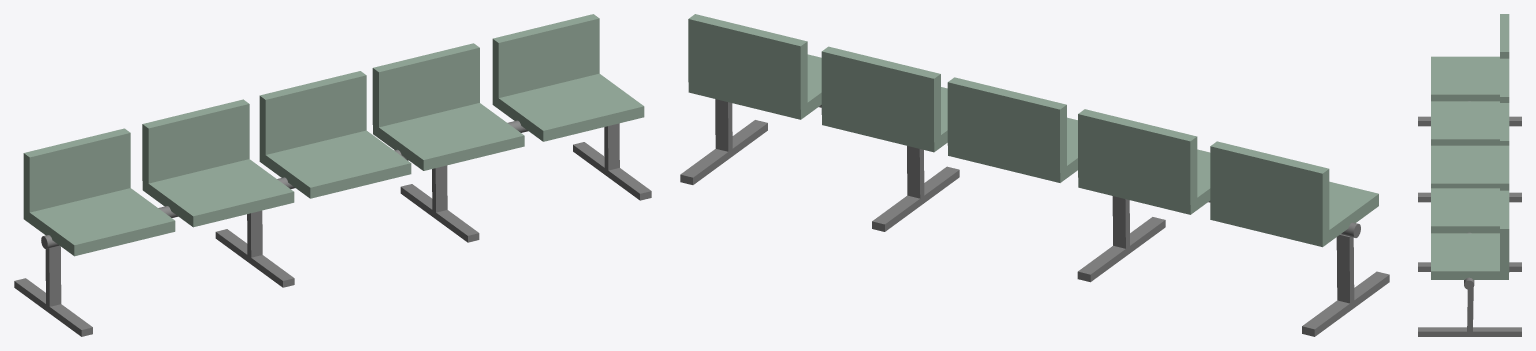
Rendered from hospital_bench.fbx.
3 views of the same model, side by side, from view 1: azimuth 30°, elevation 25°; view 2: azimuth 150°, elevation 25°; view 3: azimuth 270°, elevation 25° (orthographic). The views are drawn at different scales.
Parts seen in each view (by area): view 1: Cube_7, Cube_9, Cube_5, Cube_3, Cube_11, Cube_4, Cube_2, Cube_10, Cube_6, Cube_8, Cube_16, Cube_12 (+7 smaller); view 2: Cube_7, Cube_11, Cube_9, Cube_3, Cube_5, Cube_2, Cube_10, Cube_4, Cube_6, Cube_8, Cube_12, Cube_14 (+6 smaller); view 3: Cube_10, Cube_2, Cube_8, Cube_4, Cube_6, Cube_14, Cube_11, Cube_9, Cube_3, Cube_5, Cube_7, Cube_15 (+4 smaller).
Part boxes in pixels (x1,y1,x2,y2): Cube_7: (259,71,366,156); Cube_9: (372,43,479,128); Cube_5: (142,99,249,185); Cube_3: (23,128,130,213); Cube_11: (492,14,599,99); Cube_4: (142,159,294,227); Cube_2: (23,188,175,256); Cube_10: (492,73,644,141); Cube_6: (259,130,411,198); Cube_8: (373,103,524,170); Cube_16: (400,184,479,242); Cube_12: (215,229,294,287); Cube_7: (947,77,1066,172); Cube_11: (688,14,807,109); Cube_9: (821,46,940,142); Cube_3: (1210,141,1329,236); Cube_5: (1078,109,1197,204); Cube_2: (1210,181,1378,247); Cube_10: (688,54,821,119); Cube_4: (1078,149,1210,214); Cube_6: (948,117,1077,182); Cube_8: (822,87,947,152); Cube_12: (1077,217,1165,282); Cube_14: (680,120,767,184); Cube_10: (1431,233,1508,279); Cube_2: (1431,56,1499,101); Cube_8: (1431,188,1499,233); Cube_4: (1431,101,1499,145); Cube_6: (1431,145,1499,188); Cube_14: (1418,327,1521,336); Cube_11: (1500,190,1509,272); Cube_9: (1500,145,1509,190); Cube_3: (1500,14,1509,58); Cube_5: (1500,58,1509,102); Cube_7: (1500,103,1509,145); Cube_15: (1467,288,1473,336).
Size of the model in its own units: 493 by 113 by 98.55.
